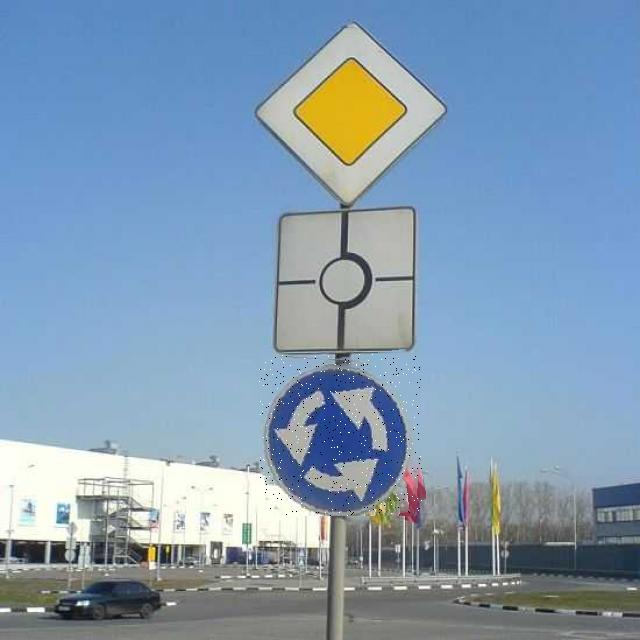roundabout: (259, 354, 422, 516)
